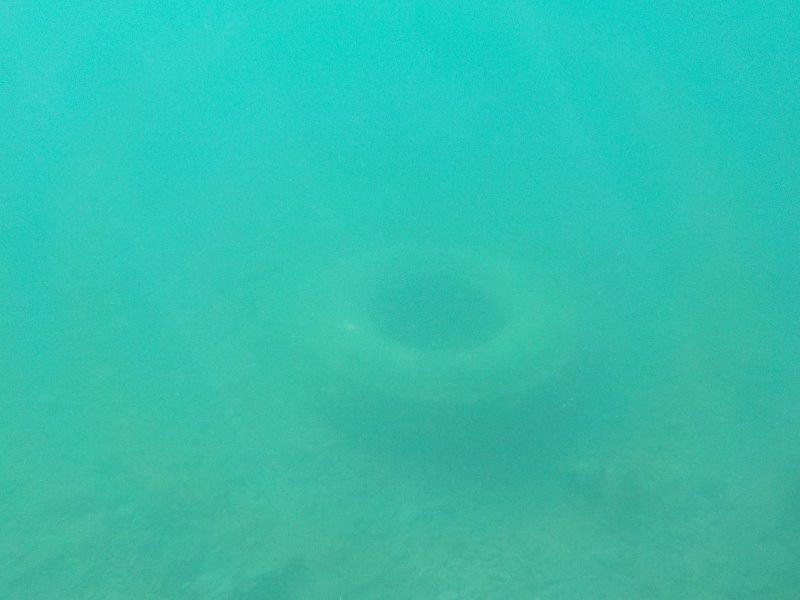tire: (287, 232, 591, 458)
